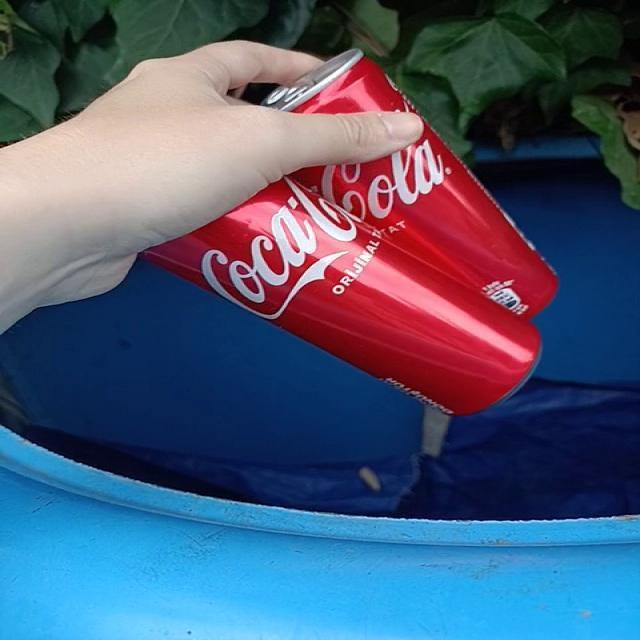Bin: (1, 138, 640, 640)
Metal: (144, 125, 559, 415), (265, 50, 413, 113)
